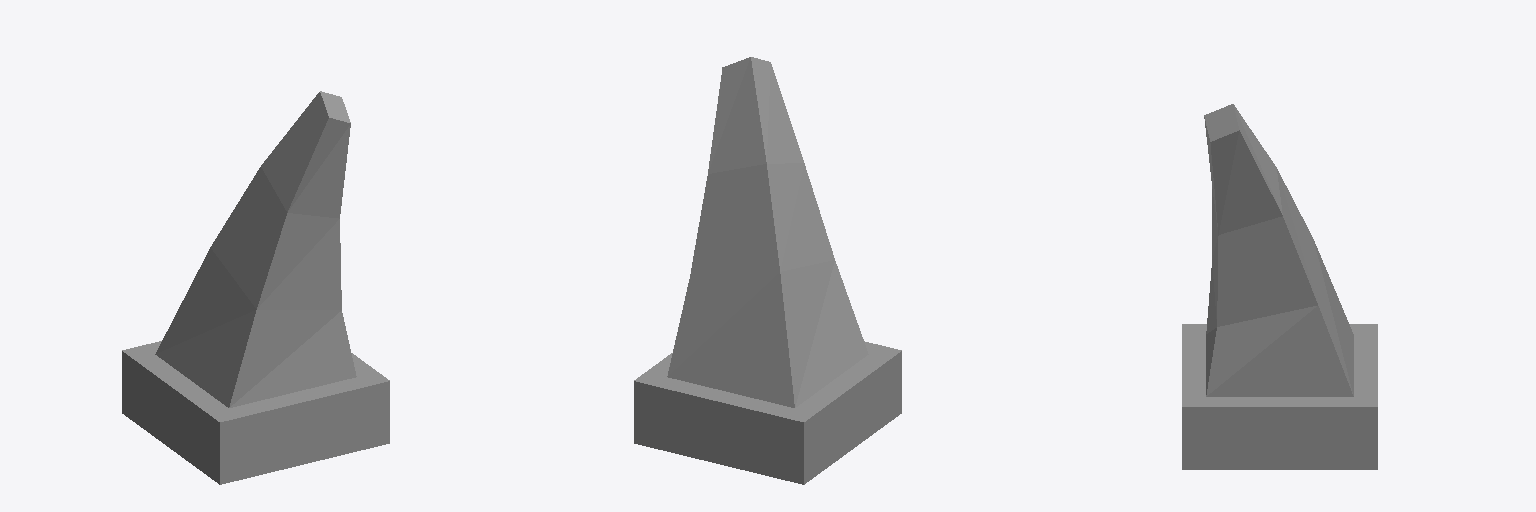
Rendered from pillar.obj.
3 views of the same model, side by side, from view 1: azimuth 30°, elevation 25°; view 2: azimuth 150°, elevation 25°; view 3: azimuth 270°, elevation 25° (orthographic).
Visible parts, largest first — view 1: Cube; view 2: Cube; view 3: Cube.
Boxes of the visible parts, box(x1,y1,x2,y2) form: Cube: box(122, 91, 389, 484); Cube: box(634, 57, 901, 484); Cube: box(1182, 104, 1377, 469).
Bounding box in the file's own units: 1 × 1.93 × 1.